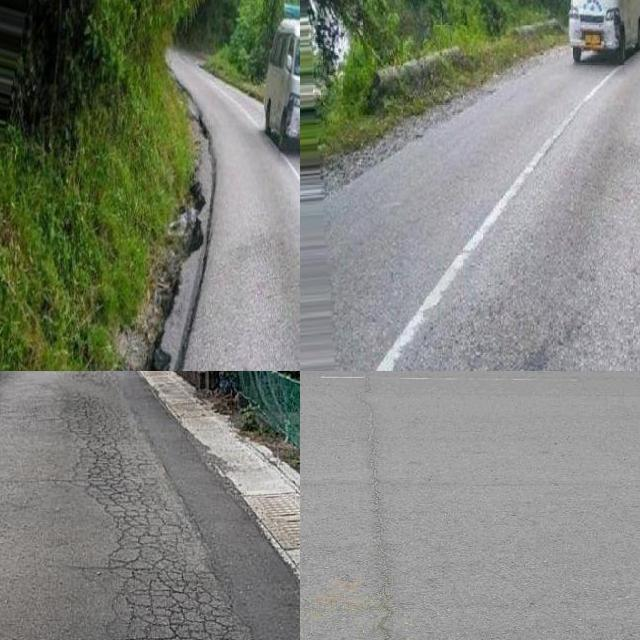Memanjang: (348, 371, 433, 640)
Pinggir: (122, 119, 235, 371)
Retak Buaya: (65, 399, 252, 640)
